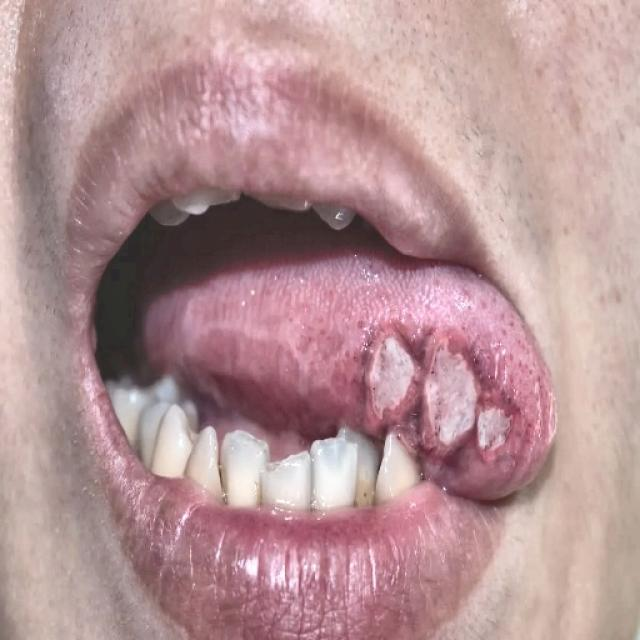cancer-detection: (355, 295, 557, 507)
processing_area: (138, 248, 557, 501)
